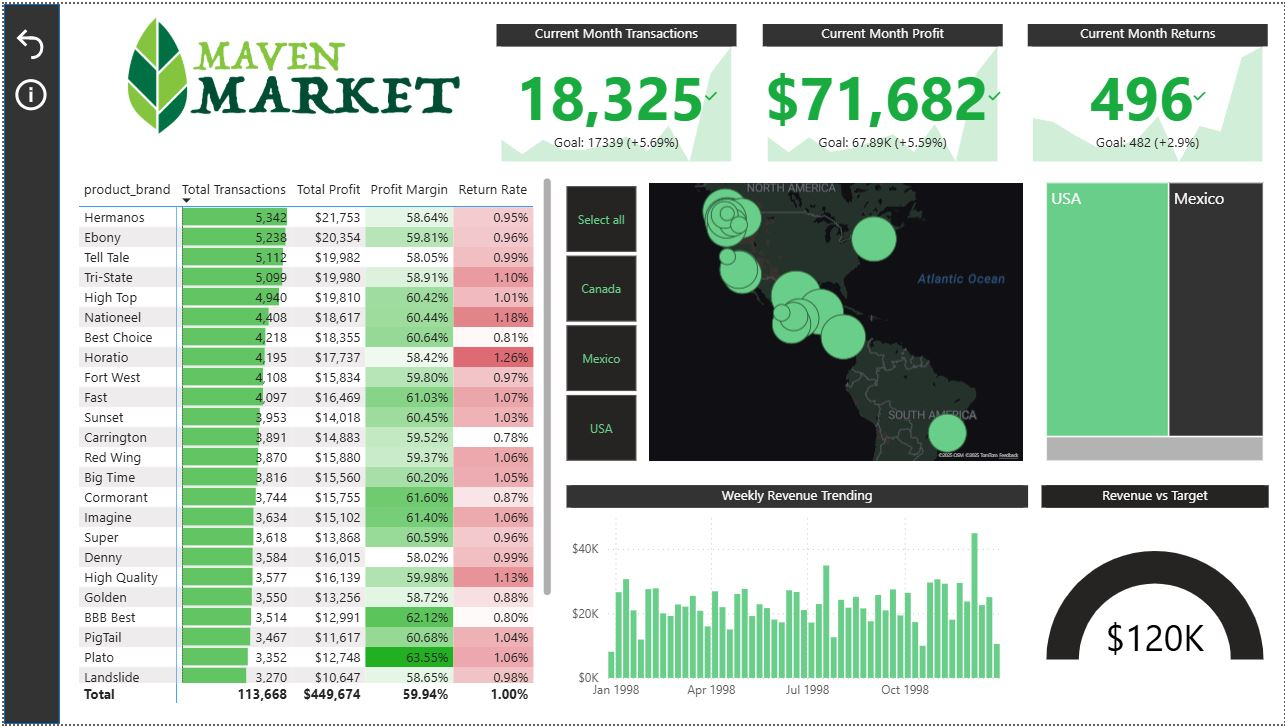

The dashboard page shown, as its layout file describes it:
{"tool":"powerbi","page":{"name":"Topline Performance","canvas":[1280,720],"ordinal":0},"visuals":[{"type":"slicer","fields":{"Values":["Stores.store_country"]},"box":[535.7,174.7,120,288.6],"z":0},{"type":"image","box":[94.3,0,388.6,142.9],"z":1000},{"type":"kpi","title":"Current Month Transactions","fields":{"Indicator":["Transactions Data.Total Transactions"],"TrendLine":["Calendar.Start of Month"],"Goal":["Transactions Data.Last Month Transactions"]},"box":[492.9,20,240,142.9],"z":2000},{"type":"pivotTable","fields":{"Values":["Transactions Data.Total Transactions","Transactions Data.Total Profit","Transactions Data.Profit Margin","Returns Data.Return Rate"],"Rows":["Products.product_brand"]},"box":[70,168.6,482.9,535.7],"z":3000},{"type":"kpi","title":"Current Month Profit","fields":{"TrendLine":["Calendar.Start of Month"],"Indicator":["Transactions Data.Total Profit"],"Goal":["Transactions Data.Last Month Profit"]},"box":[758.6,20,240,142.9],"z":4000},{"type":"kpi","title":"Current Month Returns","fields":{"TrendLine":["Calendar.Start of Month"],"Indicator":["Returns Data.Total Returns"],"Goal":["Returns Data.Last Month Returns"]},"box":[1024.3,20,240,142.9],"z":5000},{"type":"azureMap","fields":{"Size":["Transactions Data.Total Transactions"],"Category":["Stores.store_city"]},"box":[640,174.3,384.3,288.6],"z":6000},{"type":"treemap","fields":{"Values":["Transactions Data.Total Transactions"],"Group":["Stores.store_country","Stores.store_city","Stores.store_state"]},"box":[1037.1,174.3,227.1,288.6],"z":7000},{"type":"clusteredColumnChart","title":"Weekly Revenue Trending","fields":{"Y":["Transactions Data.Total Revenue"],"Category":["Calendar.Start of Week"]},"box":[562.9,481.4,461.4,222.9],"z":8000},{"type":"gauge","title":"Revenue vs Target","fields":{"Y":["Transactions Data.Total Revenue"],"MaxValue":["Transactions Data.Revenue Target"]},"box":[1037.1,481.4,227.1,222.9],"z":9000},{"type":"shape","box":[0,0,55.7,720],"z":10000},{"type":"actionButton","box":[6,20,45,40],"z":11000},{"type":"actionButton","box":[5.7,70,44.3,41.4],"z":12000}]}

Visuals, with their boxes on the page's 1280x720 design canvas (x1, y1, x2, y2). These are canvas units, not pixel positions in the 1285x727 screenshot, which may show the page scaled, cropped or inside an application window:
slicer - Stores.store_country: x1=536 y1=175 x2=656 y2=463
image: x1=94 y1=0 x2=483 y2=143
"Current Month Transactions" kpi: x1=493 y1=20 x2=733 y2=163
pivotTable - Transactions Data.Total Transactions x Transactions Data.Total Profit: x1=70 y1=169 x2=553 y2=704
"Current Month Profit" kpi: x1=759 y1=20 x2=999 y2=163
"Current Month Returns" kpi: x1=1024 y1=20 x2=1264 y2=163
azureMap - Transactions Data.Total Transactions x Stores.store_city: x1=640 y1=174 x2=1024 y2=463
treemap - Transactions Data.Total Transactions x Stores.store_country: x1=1037 y1=174 x2=1264 y2=463
"Weekly Revenue Trending" clusteredColumnChart: x1=563 y1=481 x2=1024 y2=704
"Revenue vs Target" gauge: x1=1037 y1=481 x2=1264 y2=704
shape: x1=0 y1=0 x2=56 y2=720
actionButton: x1=6 y1=20 x2=51 y2=60
actionButton: x1=6 y1=70 x2=50 y2=111
